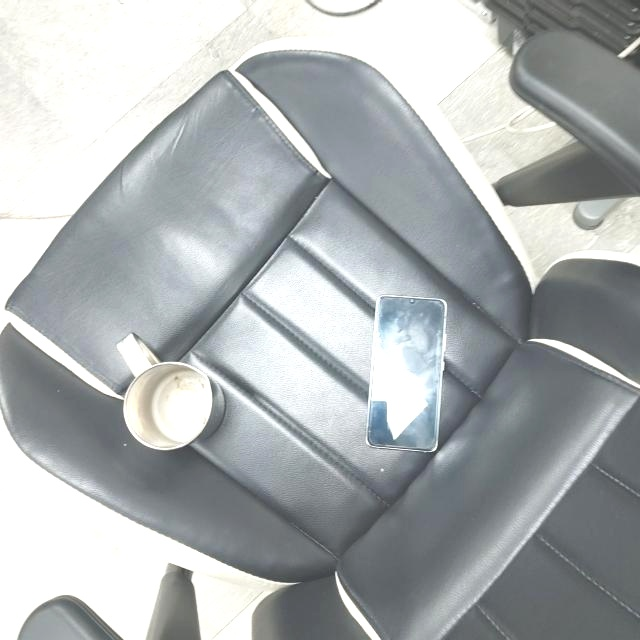cup: (114, 331, 226, 454)
phone: (365, 293, 447, 457)
